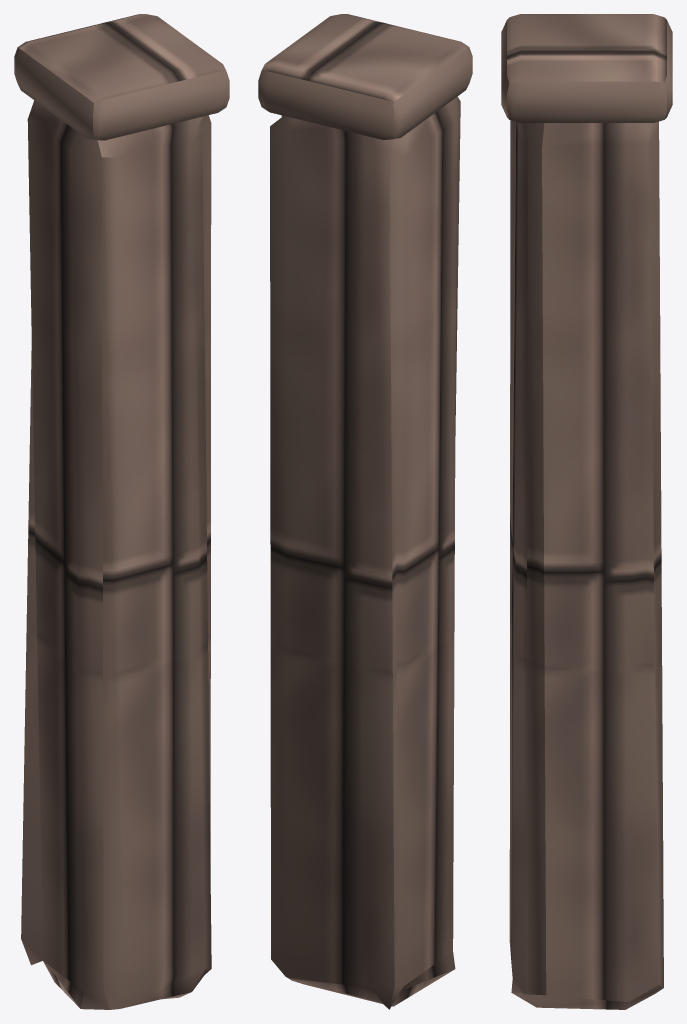
Rendered from fence_post.gltf.
3 views of the same model, side by side, from view 1: azimuth 30°, elevation 25°; view 2: azimuth 150°, elevation 25°; view 3: azimuth 270°, elevation 25° (orthographic).
Visible parts, largest first — view 1: fence_post_mesh; view 2: fence_post_mesh; view 3: fence_post_mesh.
Part boxes in pixels (x1=…): fence_post_mesh: x1=14, y1=14, x2=229, y2=1009; fence_post_mesh: x1=258, y1=14, x2=472, y2=1009; fence_post_mesh: x1=501, y1=14, x2=672, y2=1009.
Size of what is drawn, in the model's own units: 0.18 by 1.1 by 0.18.
1 material, 1 textured.
